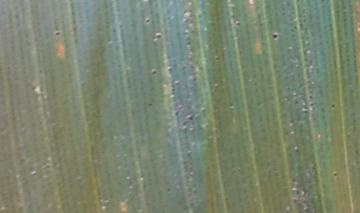tarspot: (150, 30, 162, 42), (269, 30, 280, 40), (53, 28, 62, 38), (332, 170, 341, 180), (171, 108, 180, 117), (329, 100, 337, 110), (186, 113, 194, 123), (235, 20, 243, 28), (145, 17, 153, 25), (149, 68, 157, 76)
